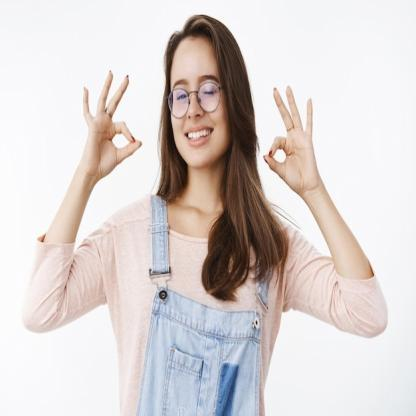ok: (80, 66, 144, 180), (260, 80, 318, 195)
